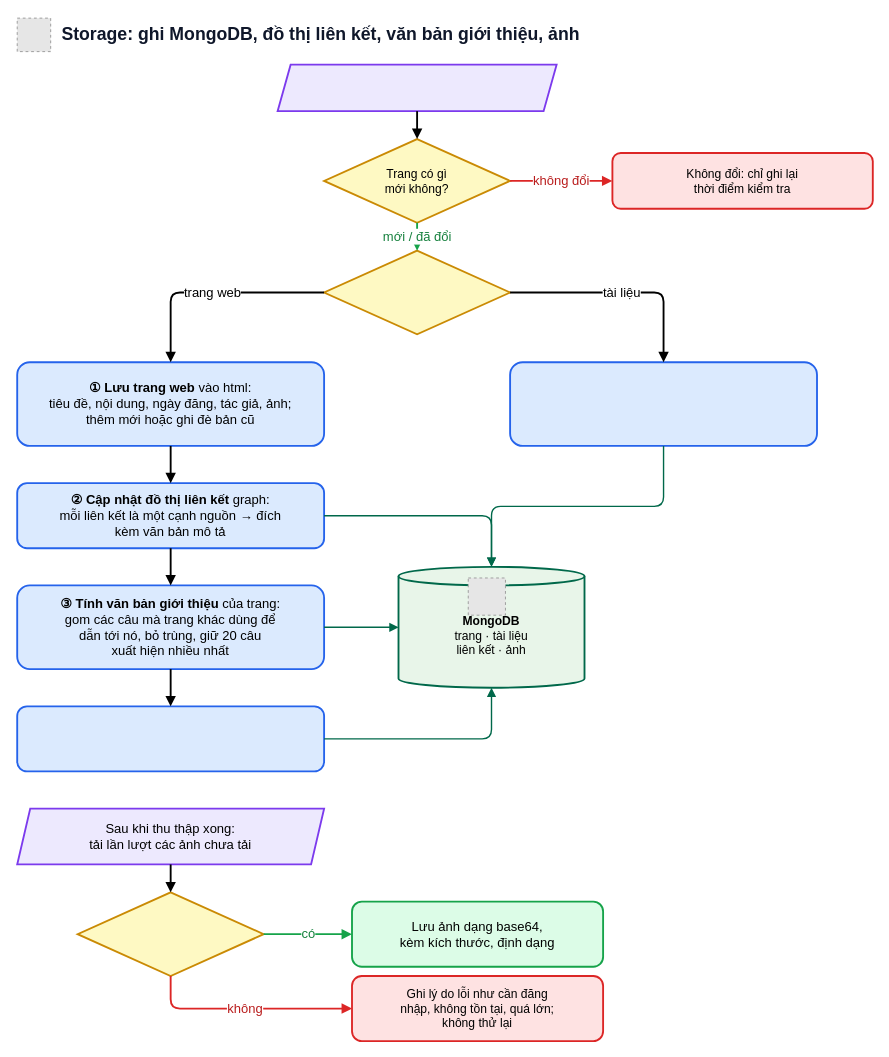
The diagram is 889 pixels wide and 1057 high, and some of its shapes have lost their labels. Grey dashed boxes stand in for pictures. The shapes that lost their labels are listed below. From the top down, each one's centre as x and y in pixels, then its label:
the point at 416,87: Nhận bản ghi từ Merger
the point at 417,292: Trang web hay tài liệu?
the point at 663,403: ① Lưu tài liệu vào other: nội dung và trang đầu tiên dẫn tới tài liệu
the point at 170,738: ④ Ghi nhận ảnh vào picture: ảnh mới được ghi kèm trang chứa nó, chưa tải về
the point at 170,933: Tải được ảnh không quá 2 MB?
